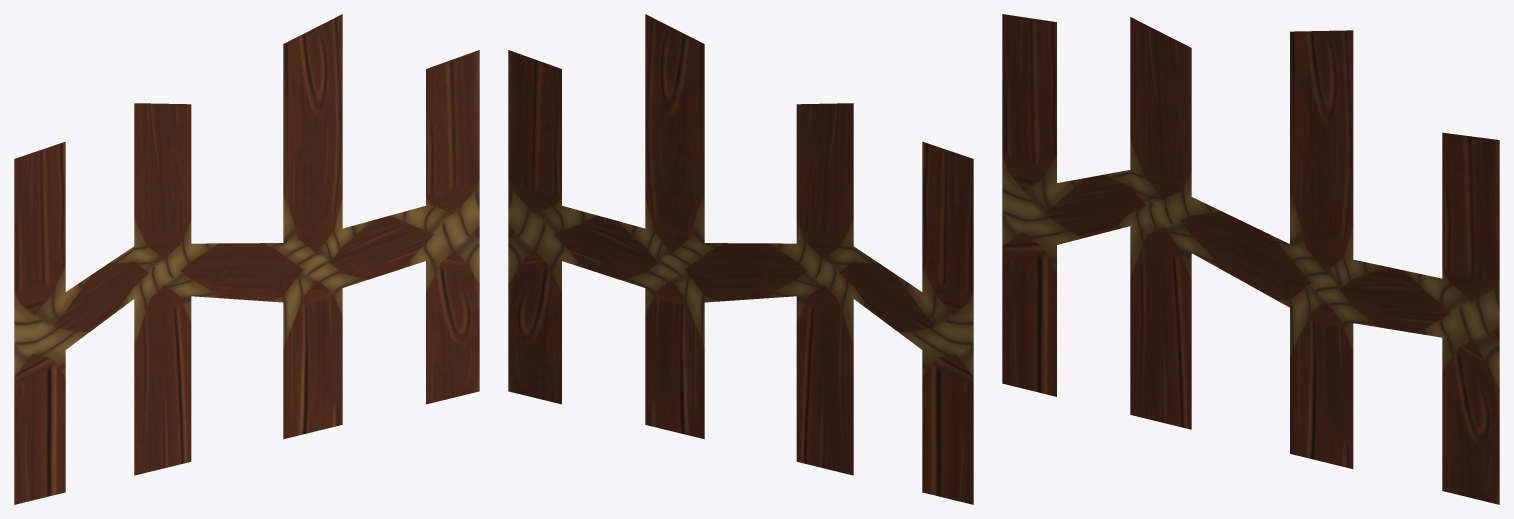
Rendered from fence.glb.
3 views of the same model, side by side, from view 1: azimuth 30°, elevation 25°; view 2: azimuth 150°, elevation 25°; view 3: azimuth 330°, elevation 25° (orthographic). The views are drawn at different scales.
Visible parts, largest first — view 1: Plane; view 2: Plane; view 3: Plane.
Part boxes in pixels (left/top/right/bottom): Plane: left=14, top=14, right=479, bottom=504; Plane: left=508, top=14, right=973, bottom=504; Plane: left=1002, top=14, right=1499, bottom=504.
Size of the model in its own units: 1.79 by 1.51 by 2.22e-08.
1 material, 1 textured.
